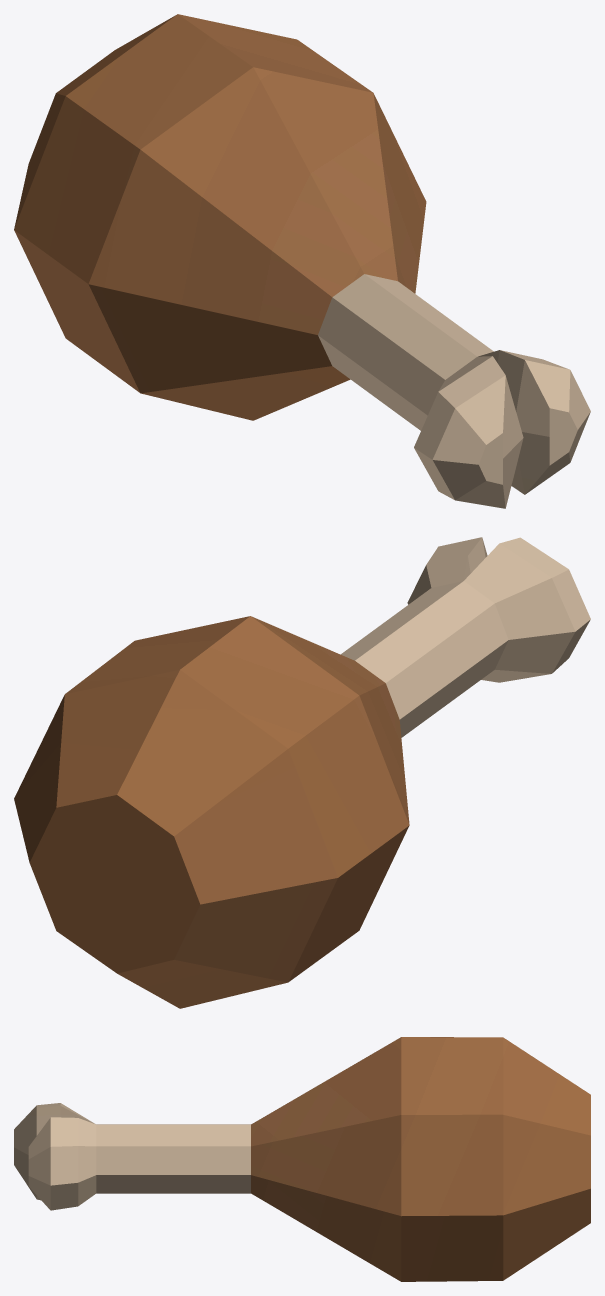
File: CHAHIN_DRUMSTICK_CHICKEN.gltf
3 views of the same model, one above another, from view 1: azimuth 30°, elevation 25°; view 2: azimuth 150°, elevation 25°; view 3: azimuth 270°, elevation 25° (orthographic). The views are drawn at different scales.
Parts seen in each view (by area): view 1: node-0; view 2: node-0; view 3: node-0.
Part boxes in pixels (box(x1,y1,x2,y2)): node-0: box(14, 14, 590, 508); node-0: box(14, 537, 590, 1008); node-0: box(14, 1037, 590, 1281).
Bounding box in the file's own units: 0.7634 × 0.763 × 1.65.
1 material, 1 textured.
